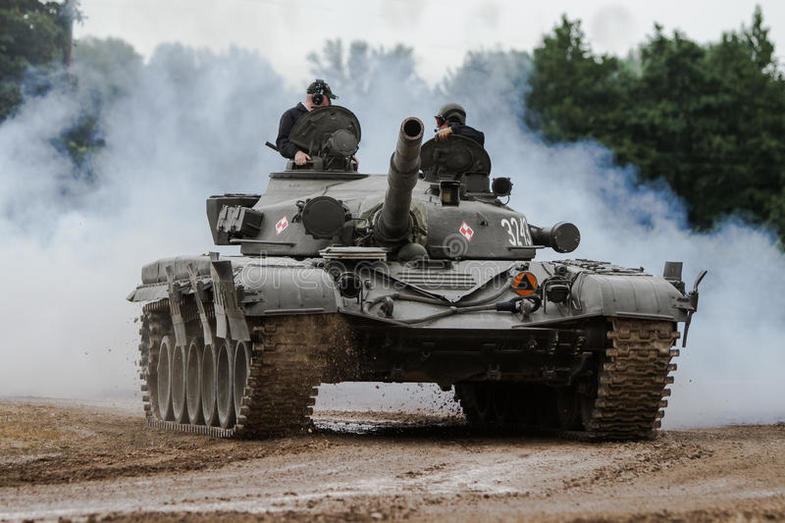t72: (136, 122, 696, 445)
